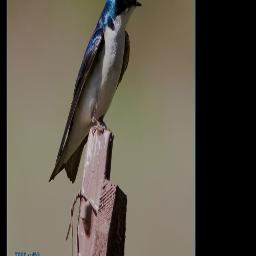Swallow: (47, 0, 142, 187)
